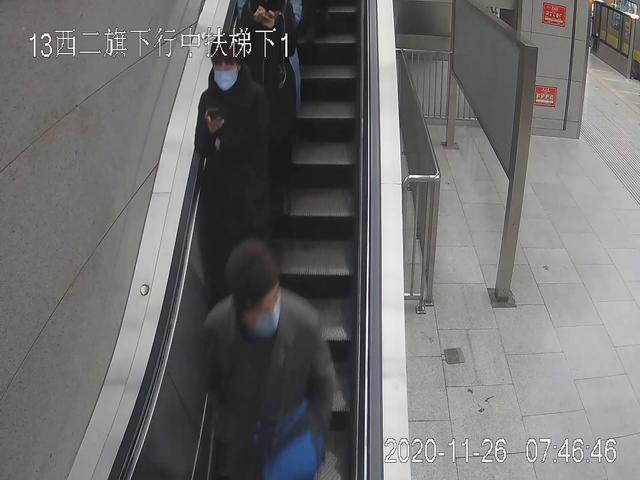person: (202, 244, 331, 480), (197, 37, 264, 368)
